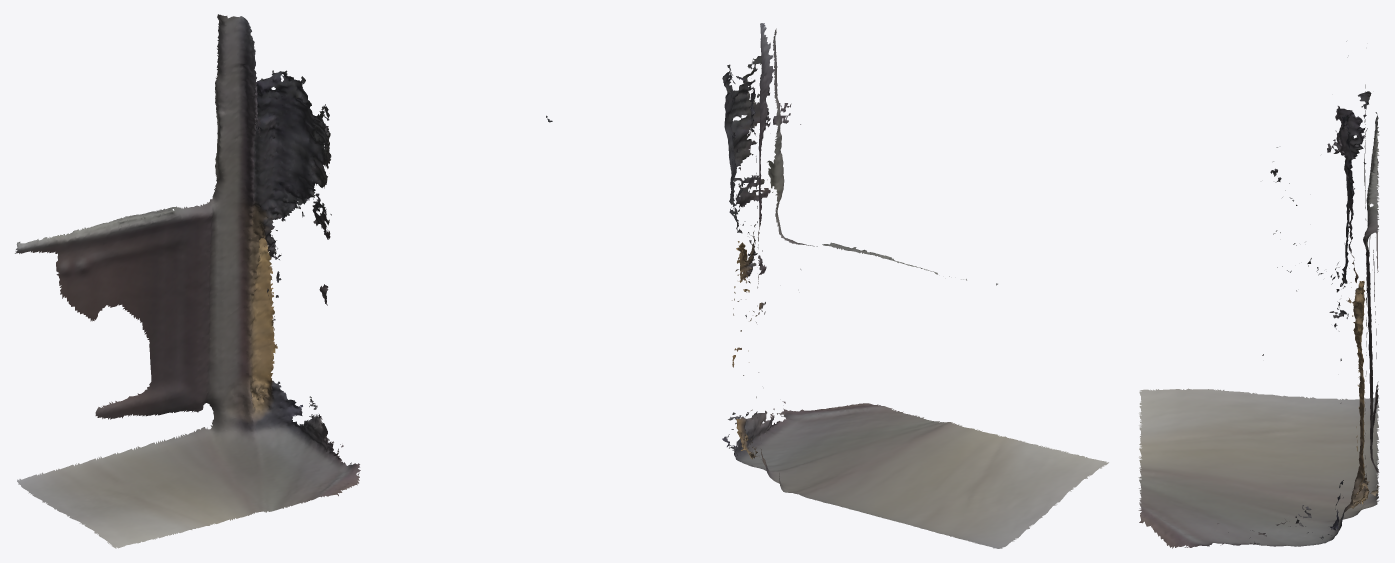
File: apartment-full-81-6f10fe9b61f2.glb
3 renders of one model, left to right at view 1: azimuth 30°, elevation 25°; view 2: azimuth 150°, elevation 25°; view 3: azimuth 270°, elevation 25°, orthographic. The views are drawn at different scales.
Size of the model in its own units: 1.81 by 1.6 by 0.695.
